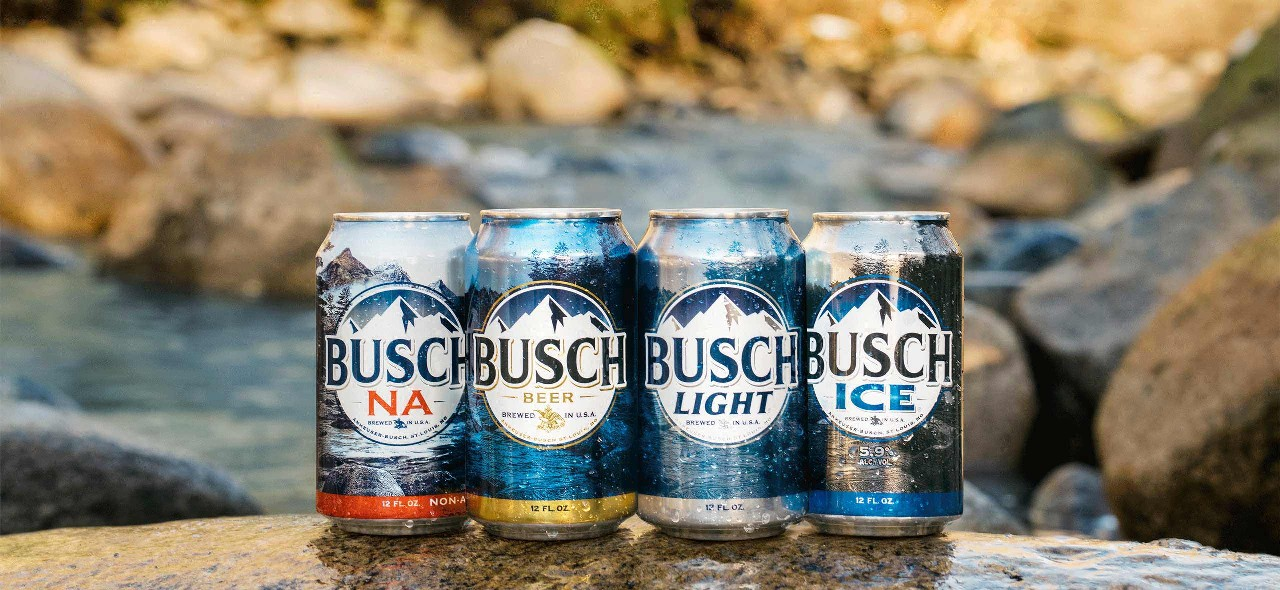beer can: (467, 195, 640, 543), (312, 213, 487, 547), (635, 209, 805, 538), (801, 207, 965, 545)
